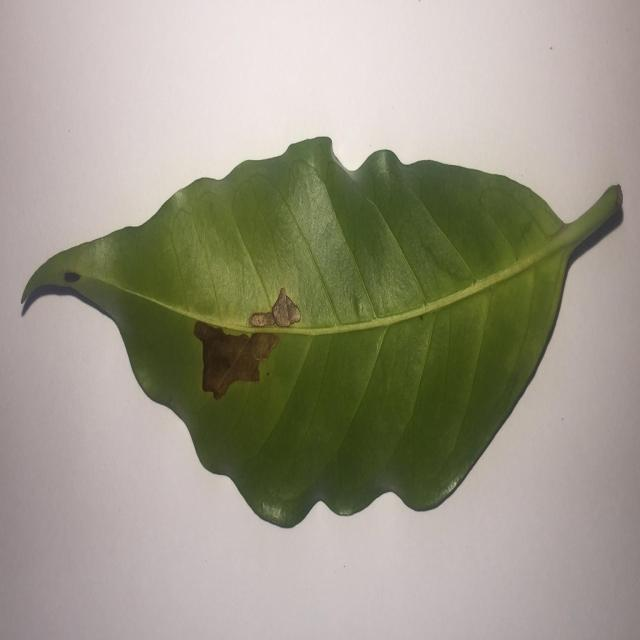Plaga-Minador: (21, 137, 625, 532)
